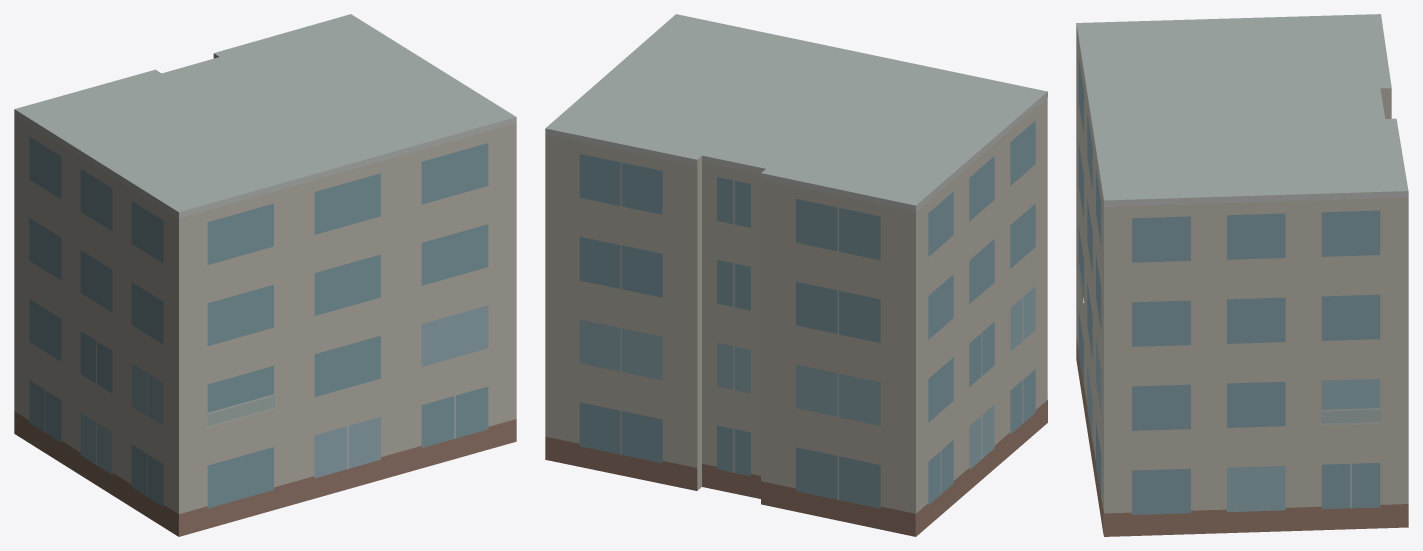
File: survey-upis-32915742.glb
3 views of the same model, side by side, from view 1: azimuth 30°, elevation 25°; view 2: azimuth 150°, elevation 25°; view 3: azimuth 270°, elevation 25° (orthographic). The views are drawn at different scales.
Visible parts, largest first — view 1: survey-upis-32915742.tmp; view 2: survey-upis-32915742.tmp; view 3: survey-upis-32915742.tmp.
Boxes of the visible parts, x1,y1,x2,y2 form: survey-upis-32915742.tmp: (14,14,516,536); survey-upis-32915742.tmp: (545,14,1047,536); survey-upis-32915742.tmp: (1076,14,1408,536).
Size of the model in its own units: 15.22 by 12.8 by 11.46.
